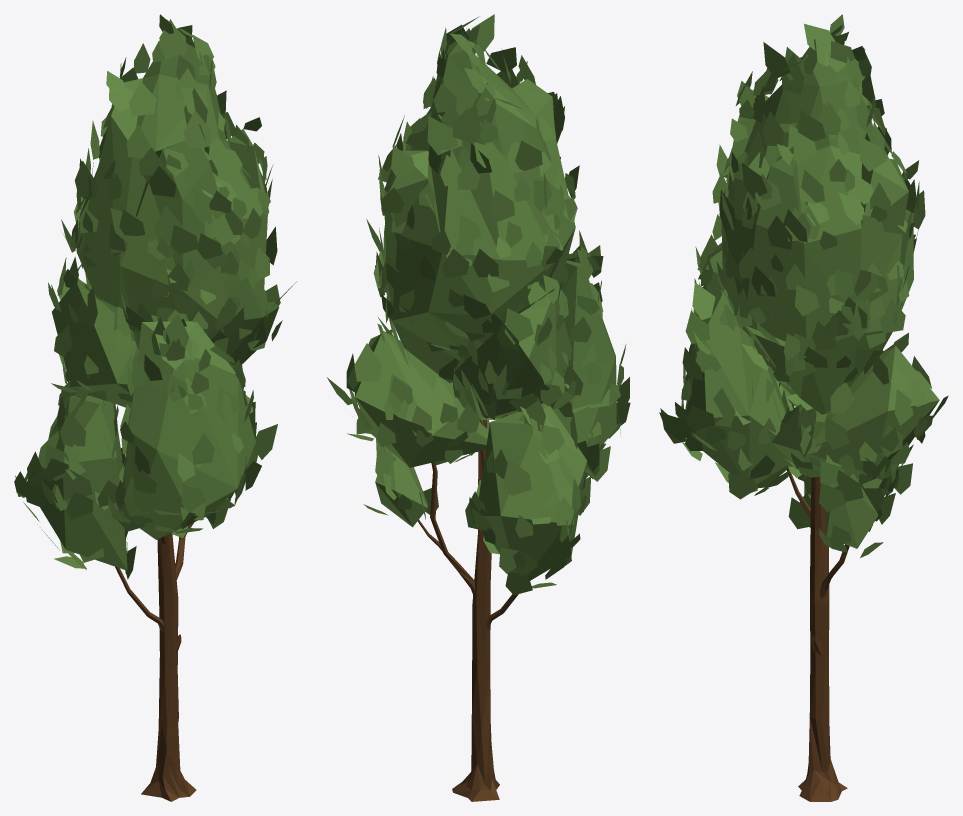
Rendered from SM_Tree_Poplar_Mature_A.fbx.
3 views of the same model, side by side, from view 1: azimuth 30°, elevation 25°; view 2: azimuth 150°, elevation 25°; view 3: azimuth 270°, elevation 25° (orthographic).
Parts seen in each view (by area): view 1: tree-poplar-mature-a; view 2: tree-poplar-mature-a; view 3: tree-poplar-mature-a.
Part boxes in pixels (<box>): tree-poplar-mature-a: <box>14,14,296,801</box>; tree-poplar-mature-a: <box>327,14,630,801</box>; tree-poplar-mature-a: <box>659,14,948,801</box>.
Bounding box in the file's own units: 4.98 × 15.85 × 5.35.
